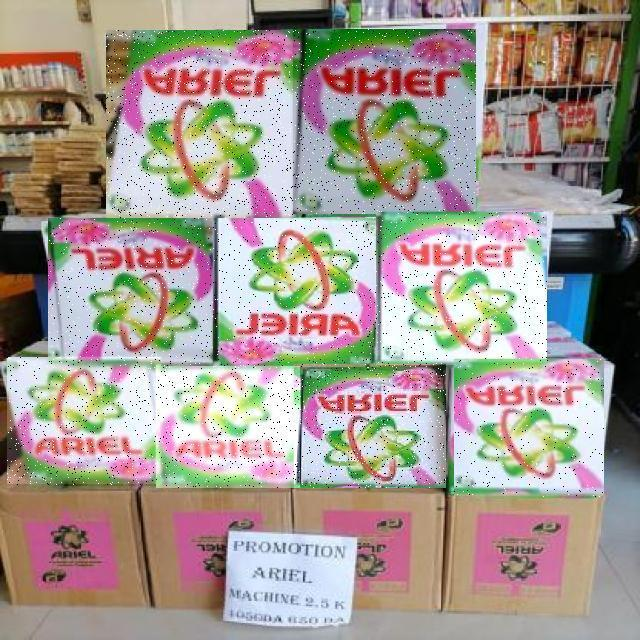Detergent: (106, 30, 296, 218), (293, 29, 476, 214), (376, 212, 547, 365), (48, 219, 224, 367), (213, 218, 382, 367), (454, 360, 604, 498), (7, 358, 161, 486), (294, 364, 446, 488), (157, 367, 301, 489)
